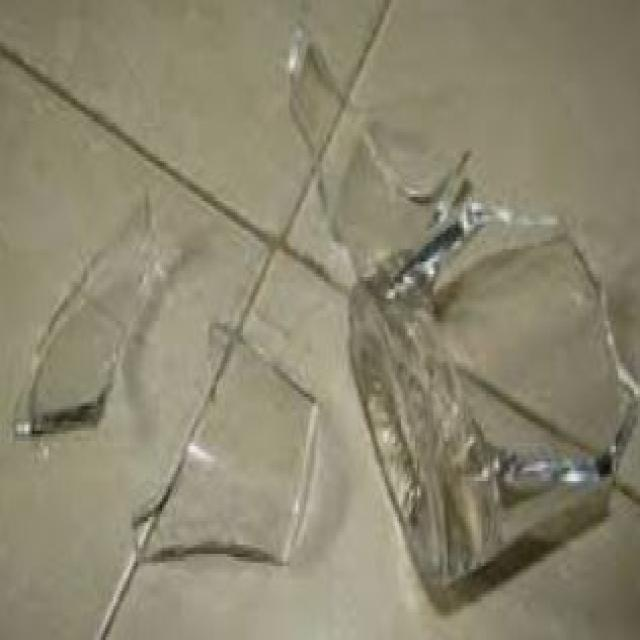electronic: (11, 26, 638, 597)
